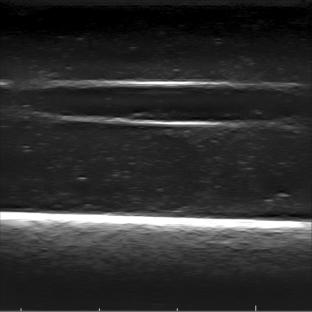vessel: (23, 79, 281, 128)
